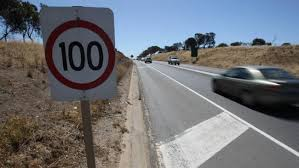Speed_limit_100km: (45, 20, 115, 90)
